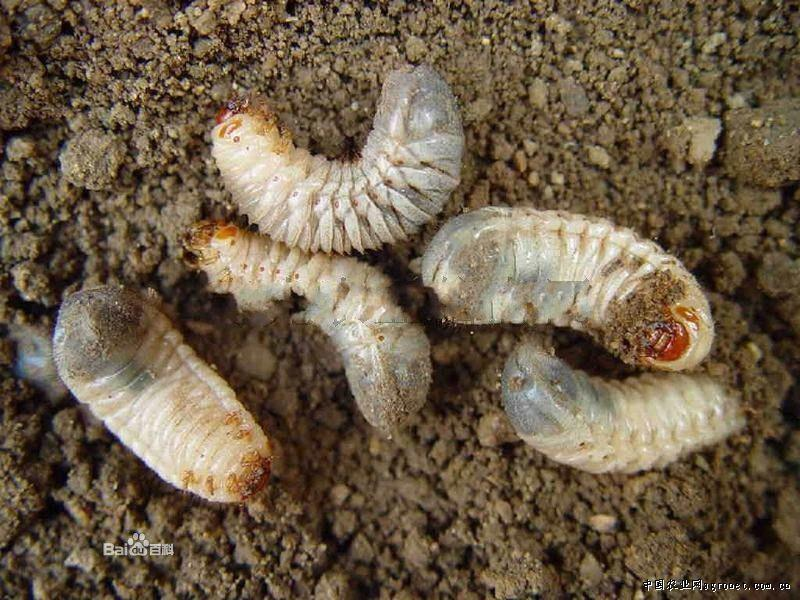grub: (50, 283, 273, 528)
